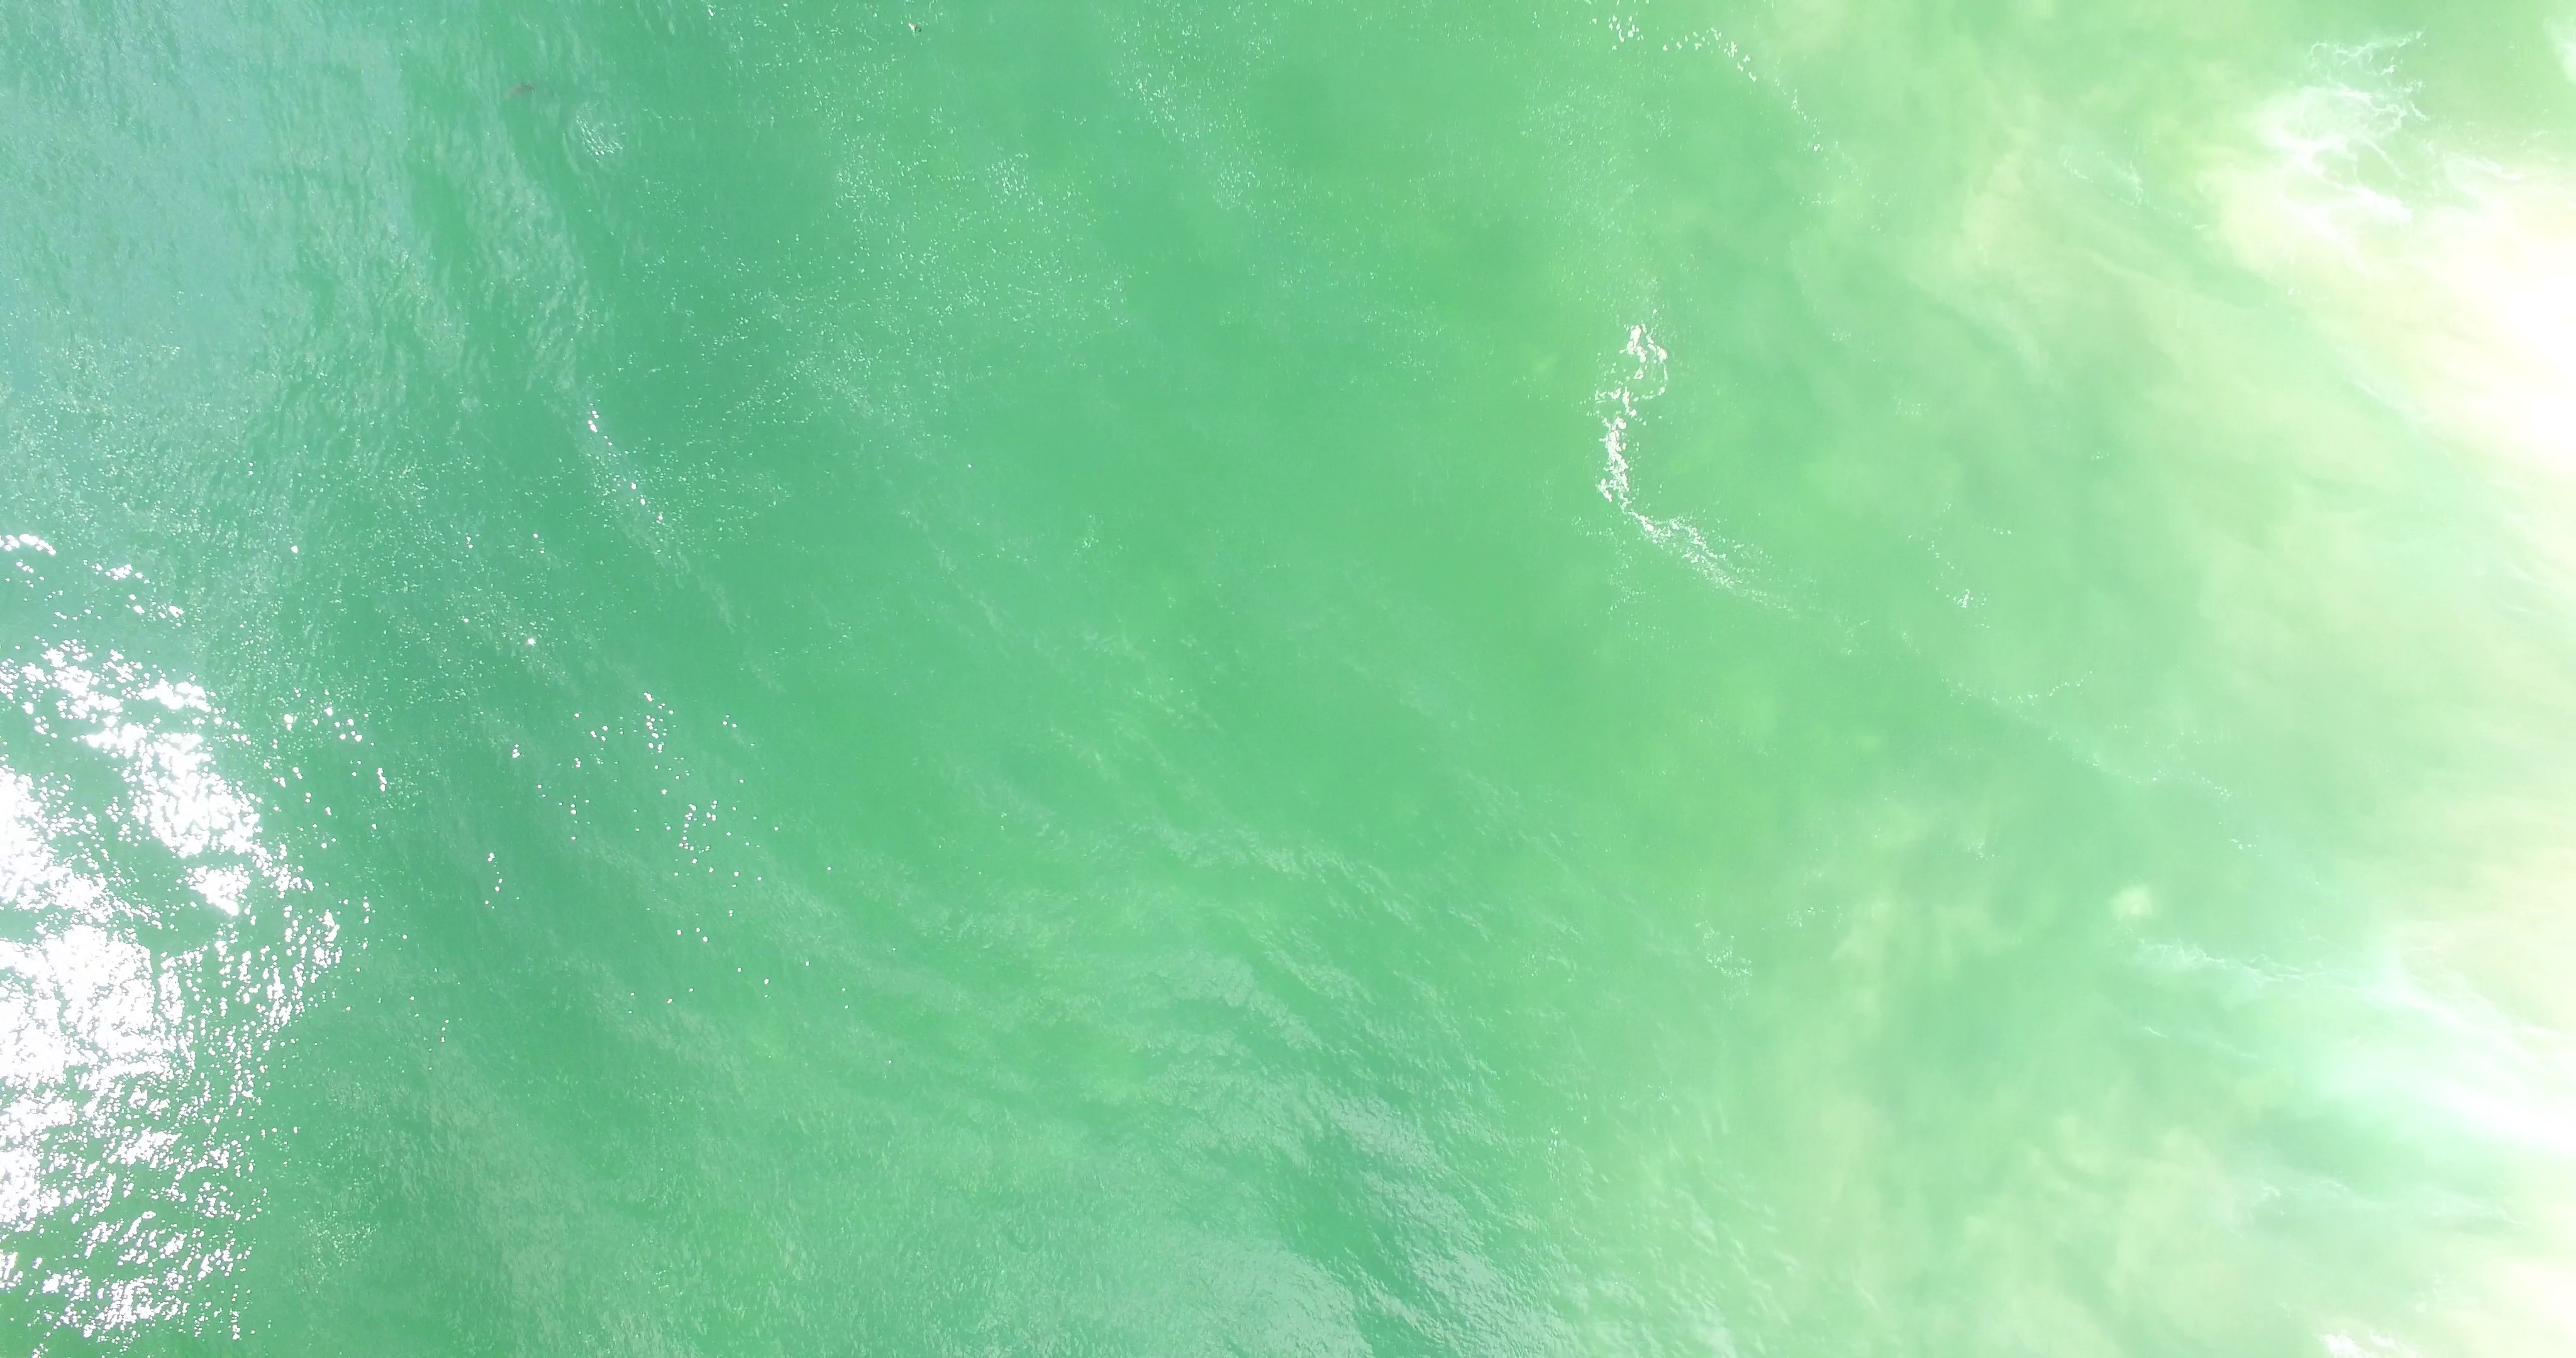dolphin: (504, 82, 545, 97)
